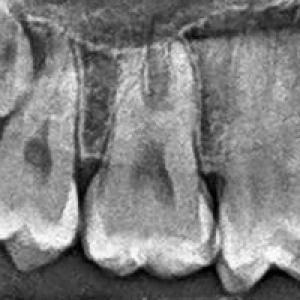tooth: (79, 41, 222, 280), (214, 29, 300, 296), (0, 30, 82, 274)
